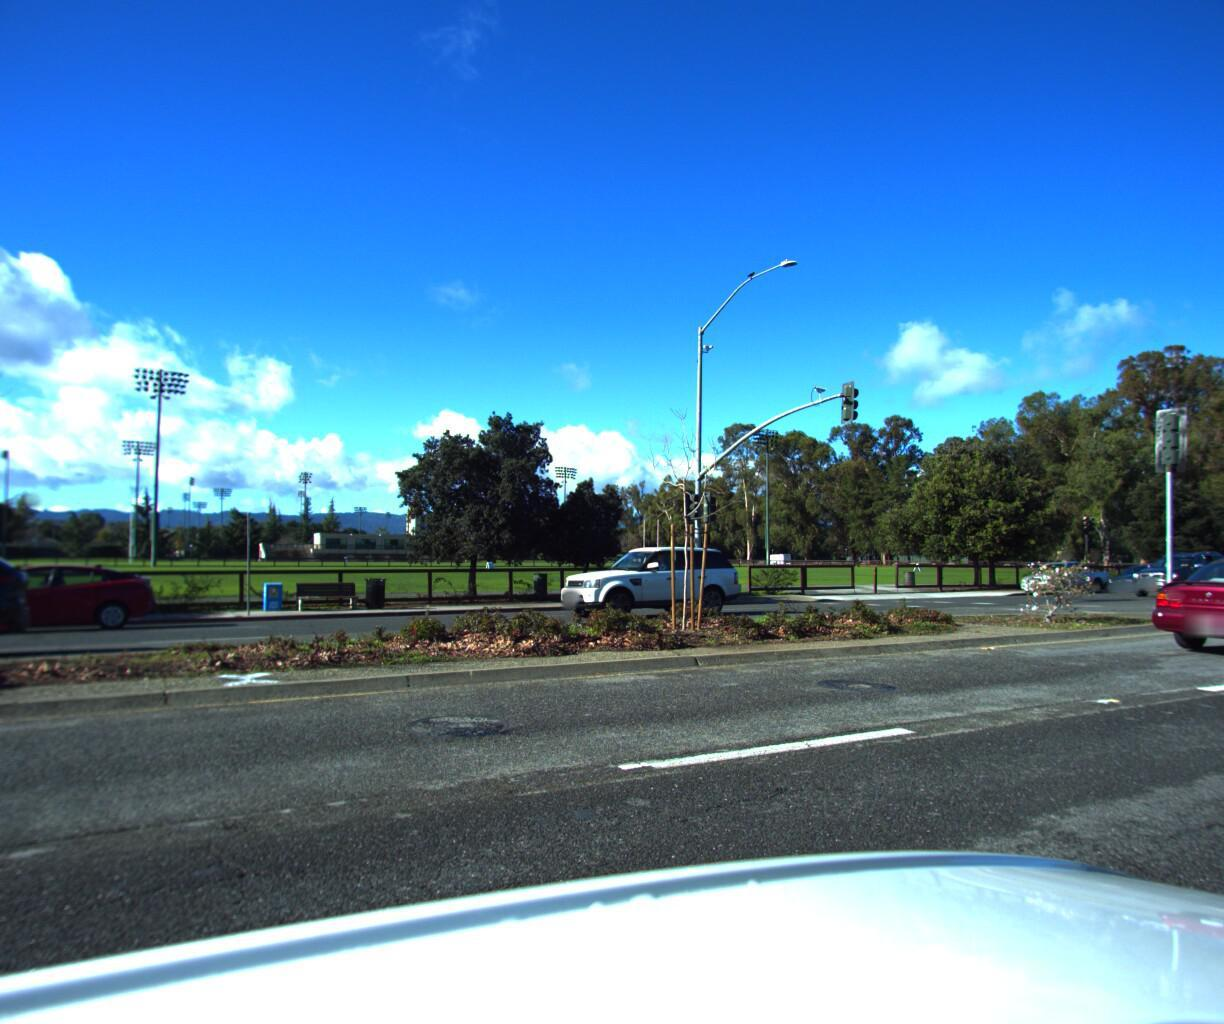car: (544, 546, 743, 619), (0, 563, 150, 638), (1134, 549, 1224, 666), (1118, 546, 1224, 595), (1009, 554, 1108, 591), (0, 543, 22, 688), (1095, 557, 1181, 588)
